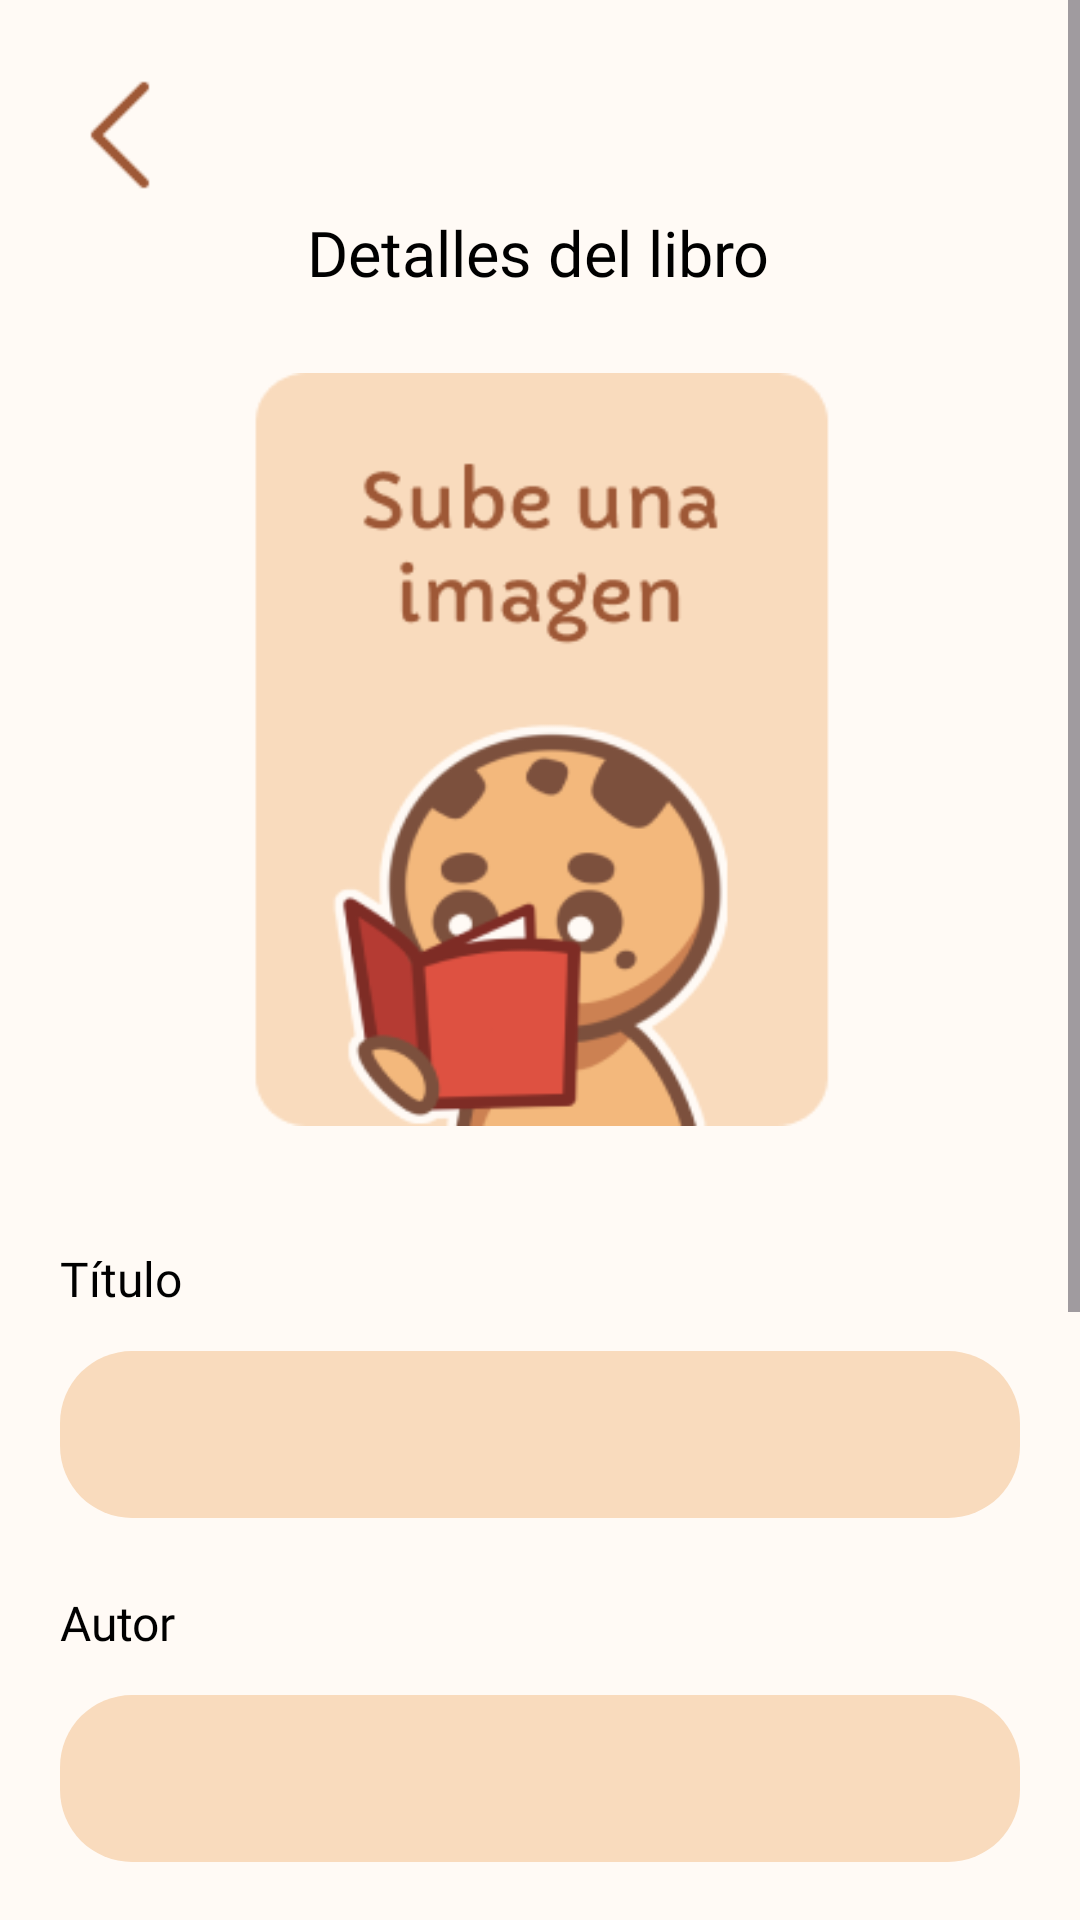

Named icons in this screenshot (1080*1920) and their bounding boxes, detection(x1, y1, x2, y2):
backk: detection(90, 81, 150, 189)
